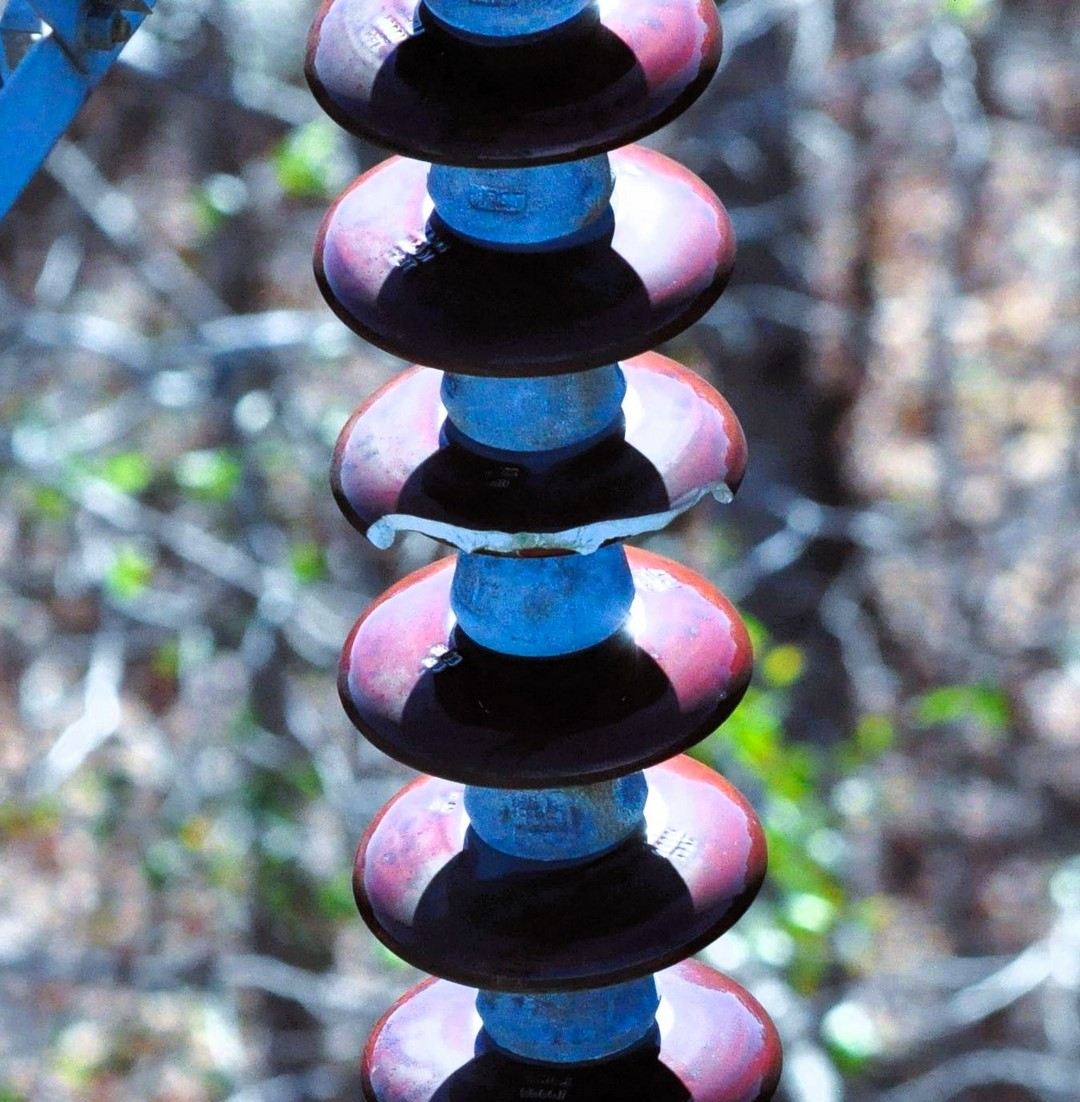insulator breakage: (326, 350, 752, 568)
